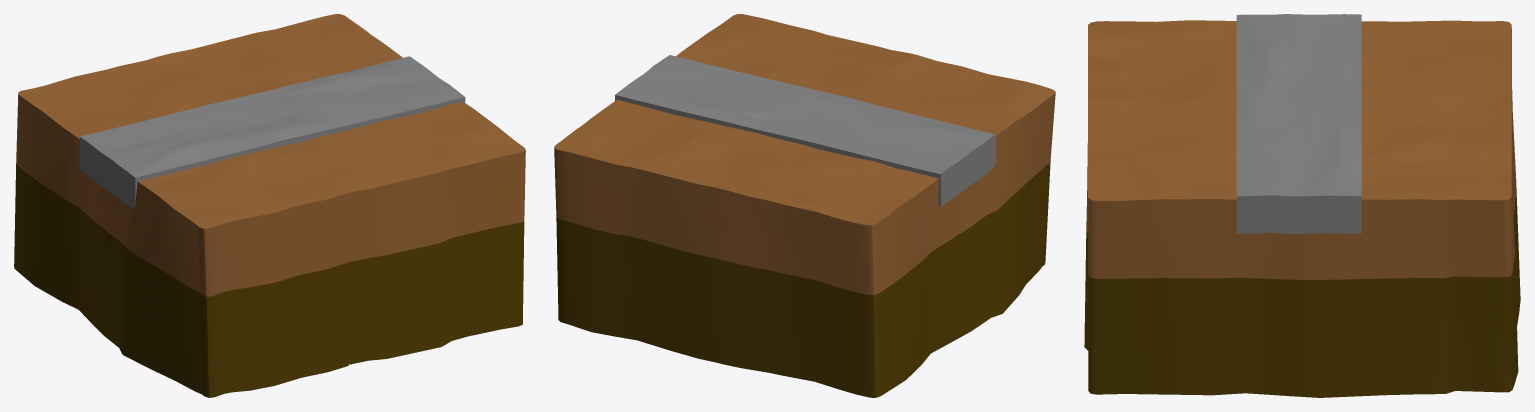
File: road1.fbx
The picture shows the model from 3 angles, left to right: view 1: azimuth 30°, elevation 25°; view 2: azimuth 150°, elevation 25°; view 3: azimuth 270°, elevation 25°; orthographic projection. The views are drawn at different scales.
Parts seen in each view (by area): view 1: island:ground1, pPlane6; view 2: island:ground1, pPlane6; view 3: island:ground1, pPlane6.
Part boxes in pixels (box(x1,y1,x2,y2)): island:ground1: box(14, 14, 525, 397); pPlane6: box(79, 56, 465, 208); island:ground1: box(554, 14, 1055, 397); pPlane6: box(615, 55, 995, 206); island:ground1: box(1084, 20, 1520, 397); pPlane6: box(1236, 14, 1361, 233).
Bounding box in the file's own units: 20.78 × 10.6 × 20.34.
